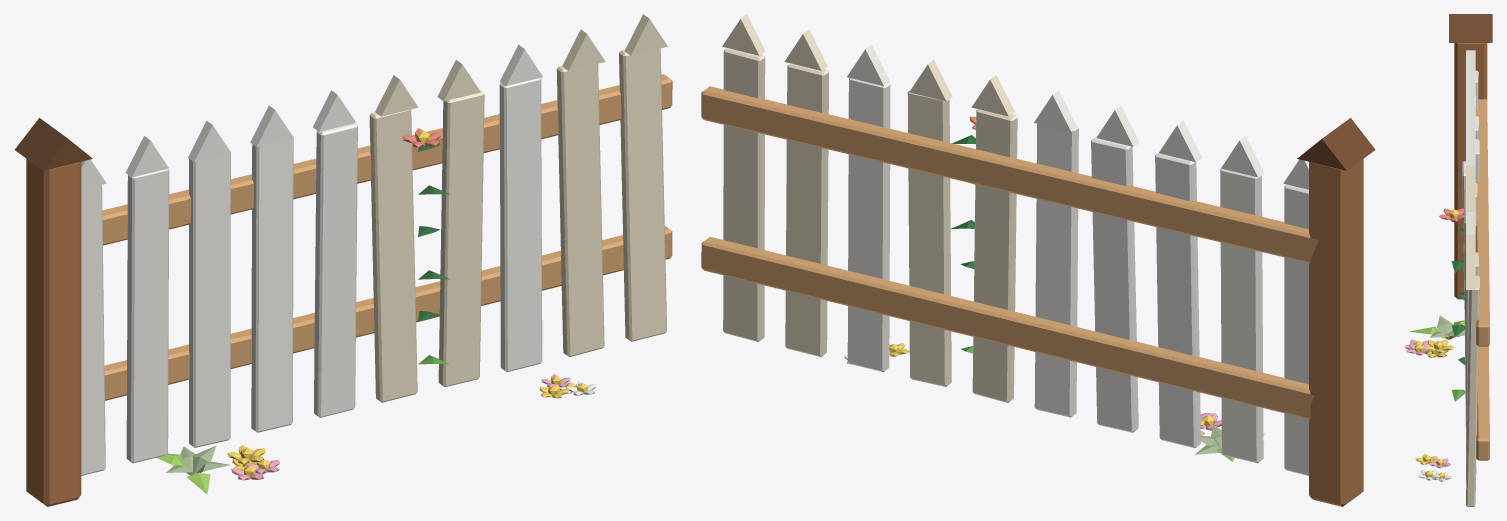
File: fence.glb
The picture shows the model from 3 angles, left to right: view 1: azimuth 30°, elevation 25°; view 2: azimuth 150°, elevation 25°; view 3: azimuth 270°, elevation 25°; orthographic projection. The views are drawn at different scales.
Visible parts, largest first — view 1: Fence; view 2: Fence; view 3: Fence.
Part boxes in pixels (box(x1,y1,x2,y2)): Fence: box(14, 14, 672, 506); Fence: box(701, 14, 1375, 506); Fence: box(1404, 14, 1492, 506).
Bounding box in the file's own units: 2.08 × 1.14 × 0.3231.
1 material, 1 textured.
